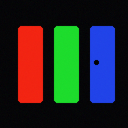0 point: (94, 60, 98, 64)
